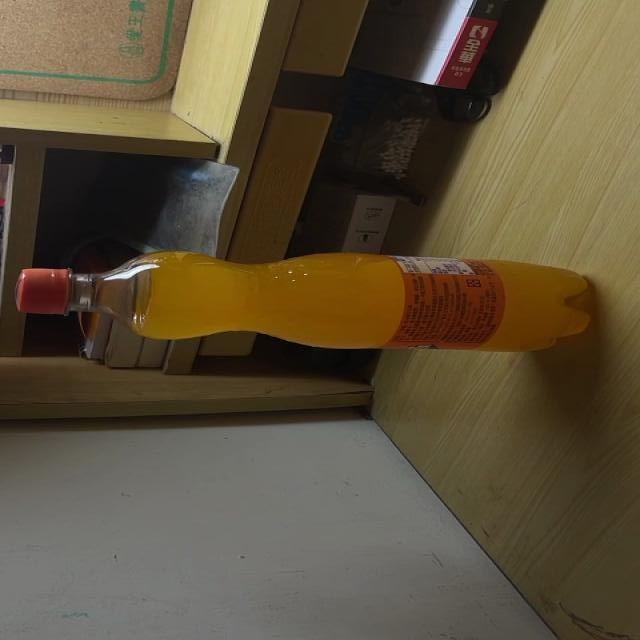Fanta: (18, 254, 595, 351)
